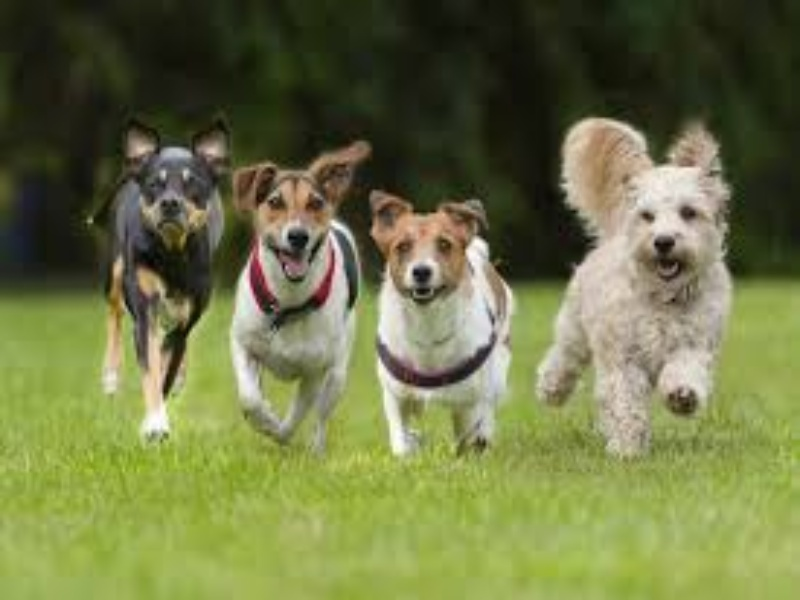dog: (70, 92, 761, 468)
